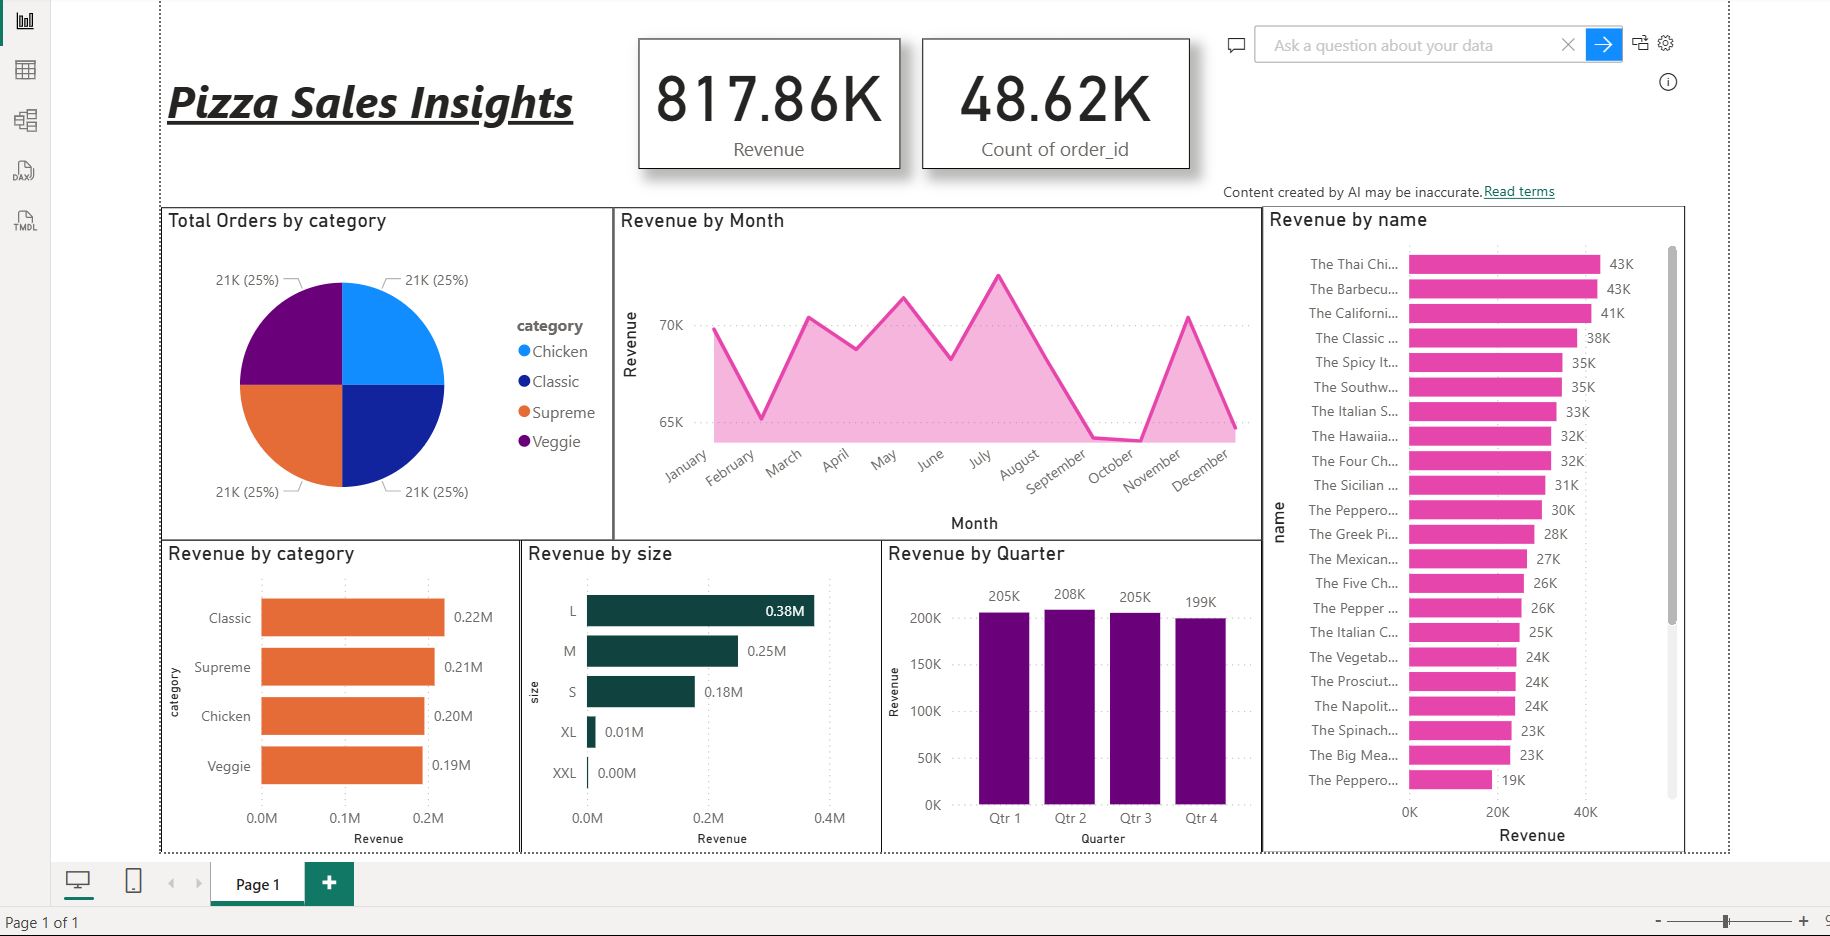

What the dashboard file says about the page in this screenshot:
{"tool":"powerbi","page":{"name":"Page 1","canvas":[1316,719],"ordinal":0},"visuals":[{"type":"card","fields":{"Values":["pizza order_details.Revenue"]},"box":[401.2,36,219.8,109.3],"z":0},{"type":"pieChart","fields":{"Category":["pizza pizza_types.category"],"Y":["pizza order_details.Total Orders"]},"box":[0,177,380.1,279.9],"z":1000},{"type":"barChart","fields":{"Y":["pizza order_details.Revenue"],"Category":["pizza pizza_types.category"]},"box":[0,456.9,301.9,263.5],"z":2000},{"type":"barChart","fields":{"Y":["pizza order_details.Revenue"],"Category":["pizza pizzas.size"]},"box":[301.9,456.9,303.3,263.5],"z":3000},{"type":"columnChart","fields":{"Category":["pizza orders.order_date.Variation.Date Hierarchy.Quarter","pizza pizza_types.category"],"Y":["pizza order_details.Revenue"]},"box":[605.1,456.9,319.7,263.5],"z":4000},{"type":"card","fields":{"Values":["CountNonNull(pizza order_details.order_id)"]},"box":[639.5,36,224.4,109.3],"z":5000},{"type":"barChart","fields":{"Y":["pizza order_details.Revenue"],"Category":["pizza pizza_types.name"]},"box":[925,176.4,354.9,542.8],"z":6000},{"type":"areaChart","fields":{"Category":["pizza orders.order_date.Variation.Date Hierarchy.Month"],"Y":["pizza order_details.Revenue"]},"box":[380.1,177,544.8,279.9],"z":7000},{"type":"qnaVisual","box":[887.4,0,392.2,176.6],"z":8000},{"type":"textbox","box":[0,58.1,380.2,64],"z":9000}]}

Visuals, with their boxes on the page's 1316x719 design canvas (x1, y1, x2, y2). These are canvas units, not pixel positions in the 1830x936 screenshot, which may show the page scaled, cropped or inside an application window:
card - pizza order_details.Revenue: rect(401, 36, 621, 145)
pieChart - pizza pizza_types.category x pizza order_details.Total Orders: rect(0, 177, 380, 457)
barChart - pizza order_details.Revenue x pizza pizza_types.category: rect(0, 457, 302, 720)
barChart - pizza order_details.Revenue x pizza pizzas.size: rect(302, 457, 605, 720)
columnChart - pizza orders.order_date.Variation.Date Hierarchy.Quarter x pizza pizza_types.category: rect(605, 457, 925, 720)
card - CountNonNull(pizza order_details.order_id): rect(640, 36, 864, 145)
barChart - pizza order_details.Revenue x pizza pizza_types.name: rect(925, 176, 1280, 719)
areaChart - pizza orders.order_date.Variation.Date Hierarchy.Month x pizza order_details.Revenue: rect(380, 177, 925, 457)
qnaVisual: rect(887, 0, 1280, 177)
textbox: rect(0, 58, 380, 122)
